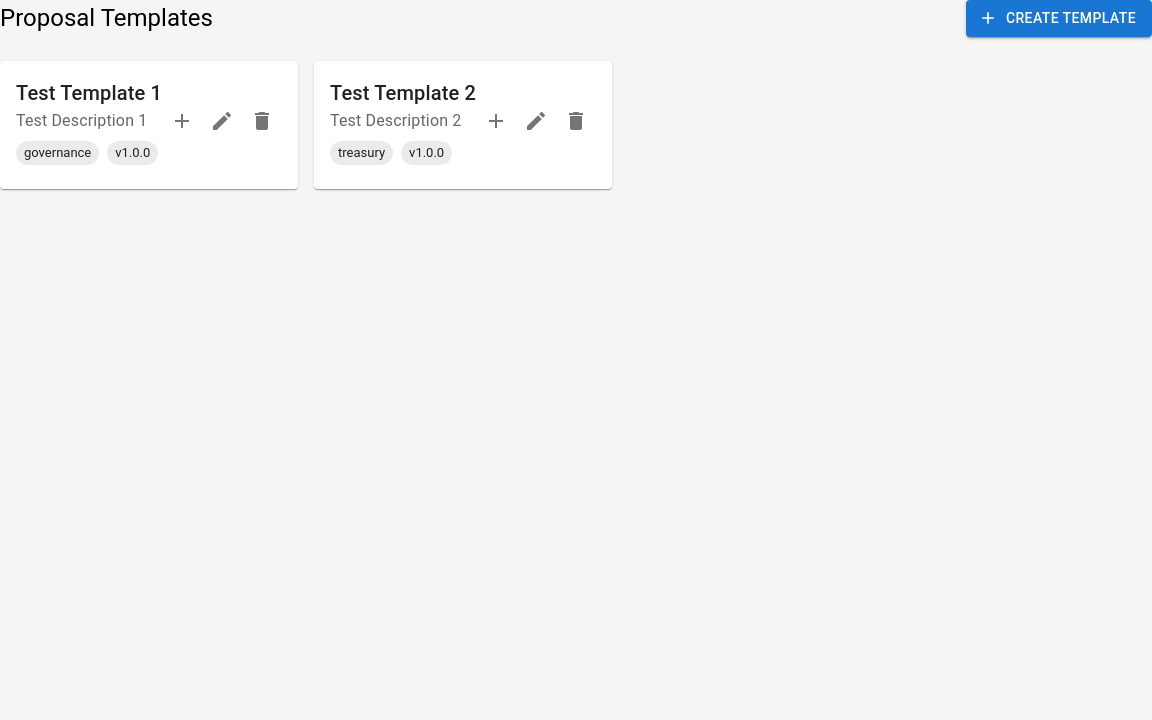
Test: ProposalTemplateManager › opens delete confirmation dialog when clicking delete button
The image size is (1152, 720).
Expected: the heading "Test Template 1" is shown, [16,76,162,108]
What coordinates should you click on to do the following:
click the 1st button with test id "DeleteIcon"
I would click on:
 (262, 120)
Its box is [242,100,282,140].
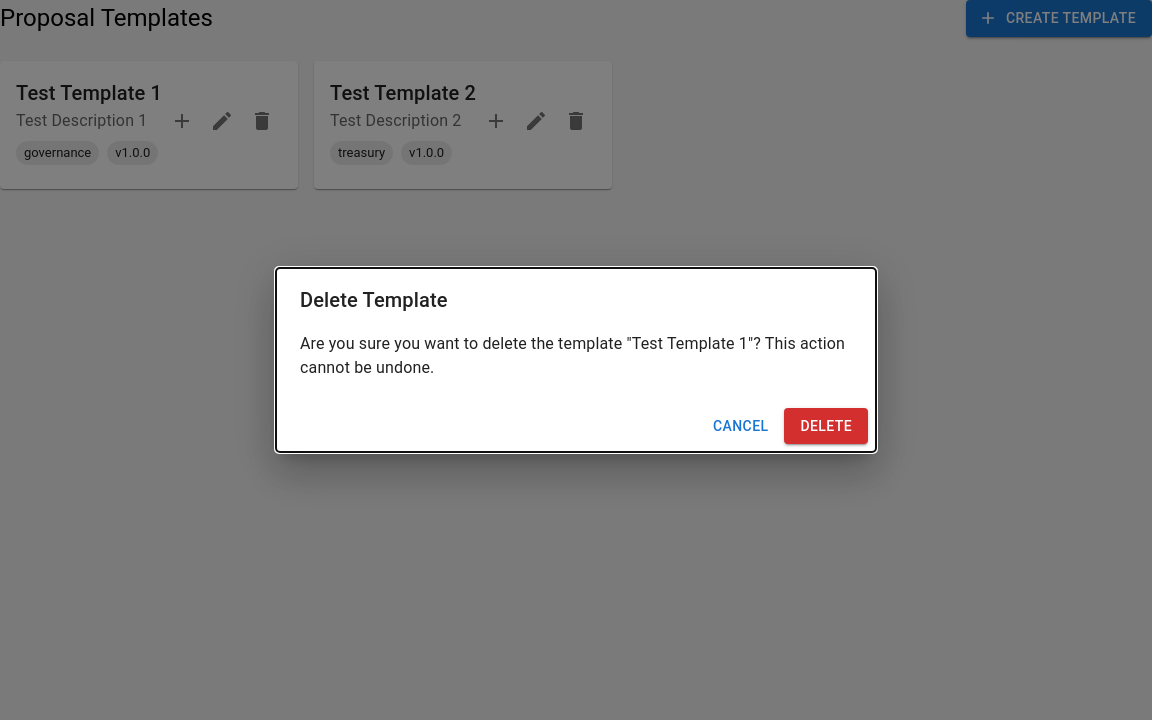
Expected: the heading "Delete Template" is shown, [300,288,448,312]
